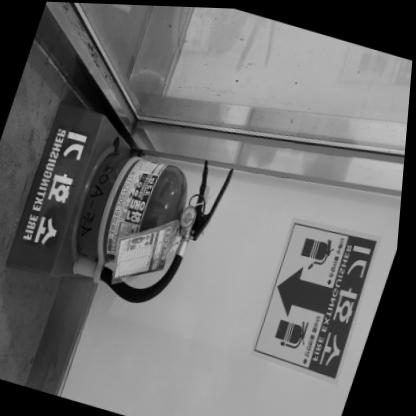FE: (4, 96, 247, 322)
